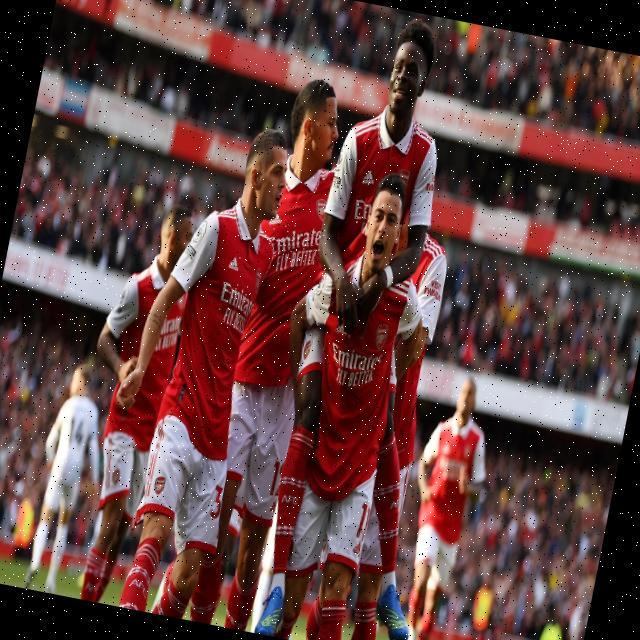Adidas: (269, 209, 284, 227), (336, 318, 351, 336), (361, 169, 376, 187), (228, 253, 241, 273), (352, 541, 363, 557), (269, 500, 278, 513)
Emirates: (267, 220, 327, 265), (327, 341, 385, 375), (218, 282, 257, 318), (157, 312, 183, 338), (352, 198, 374, 226)
